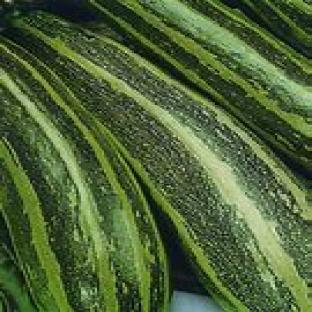Zucchini: (12, 13, 311, 311), (0, 39, 168, 311), (0, 217, 36, 311)
